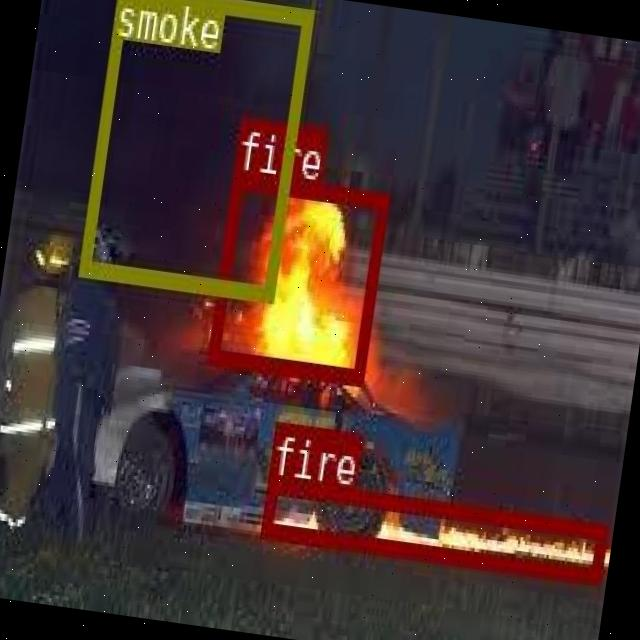fire: (205, 168, 387, 383), (260, 476, 608, 582)
smoke: (77, 0, 313, 298)
